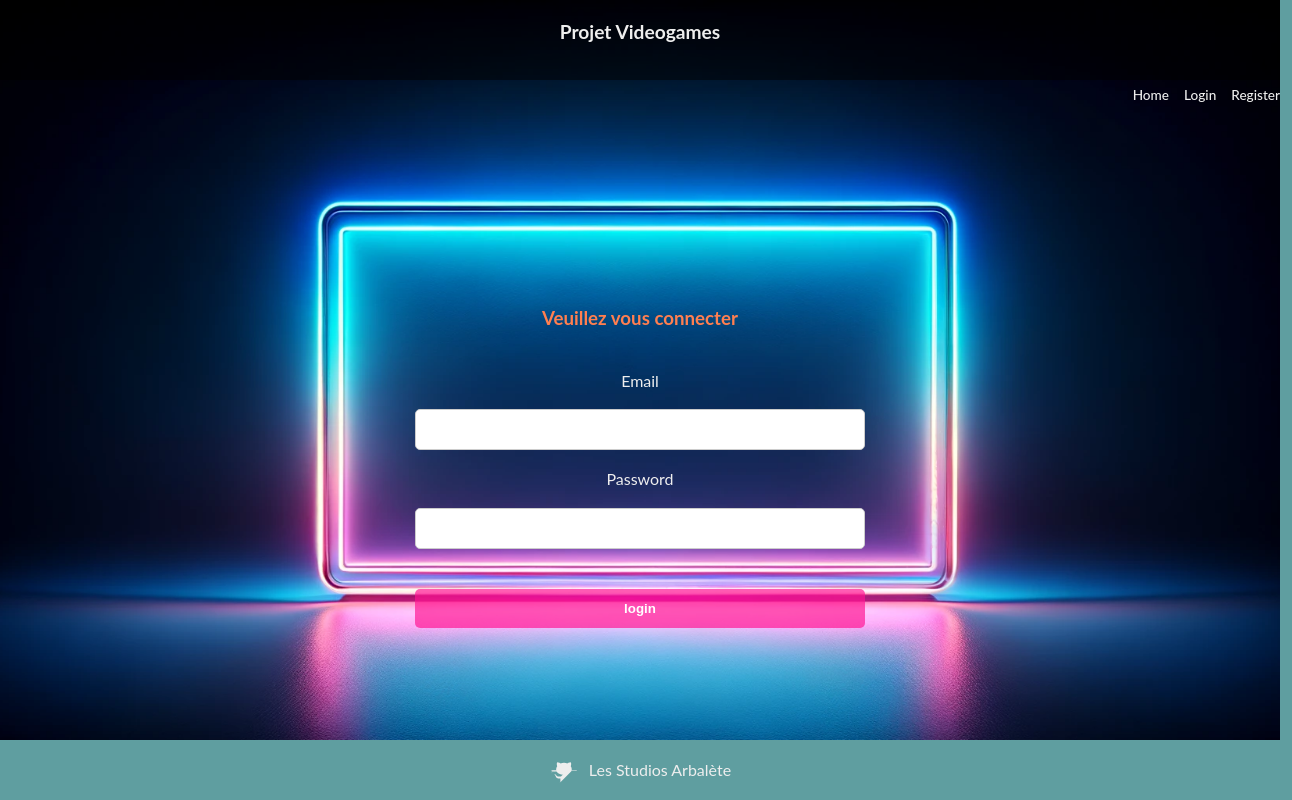
it: Page de connexion (Login) › devrait afficher un message d'erreur en cas de mauvais identifiants
Step 1. Type "wrong@test.com" into the field named "email" → (640, 430), box [415,409,865,450]
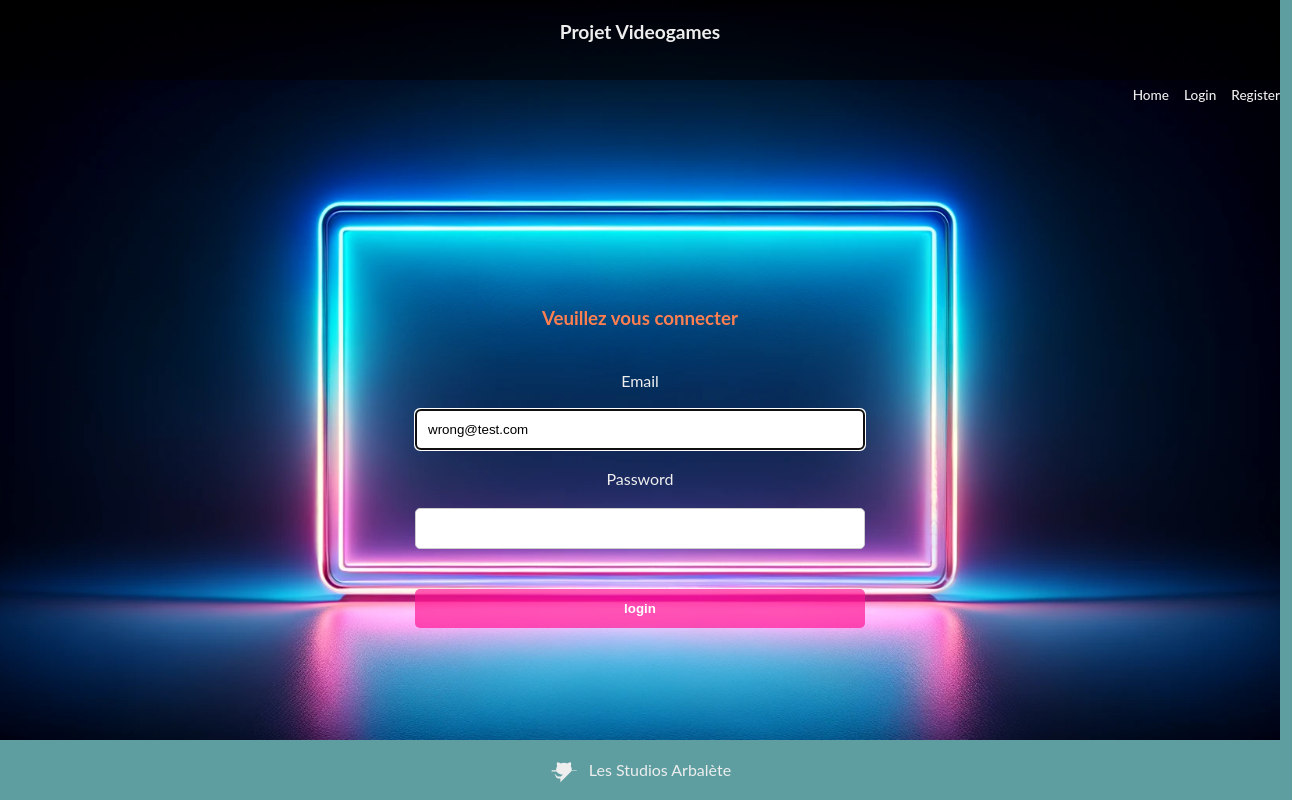
Step 2. Type "mauvaispass" into the password field named "password" → (640, 529), box [415,508,865,549]
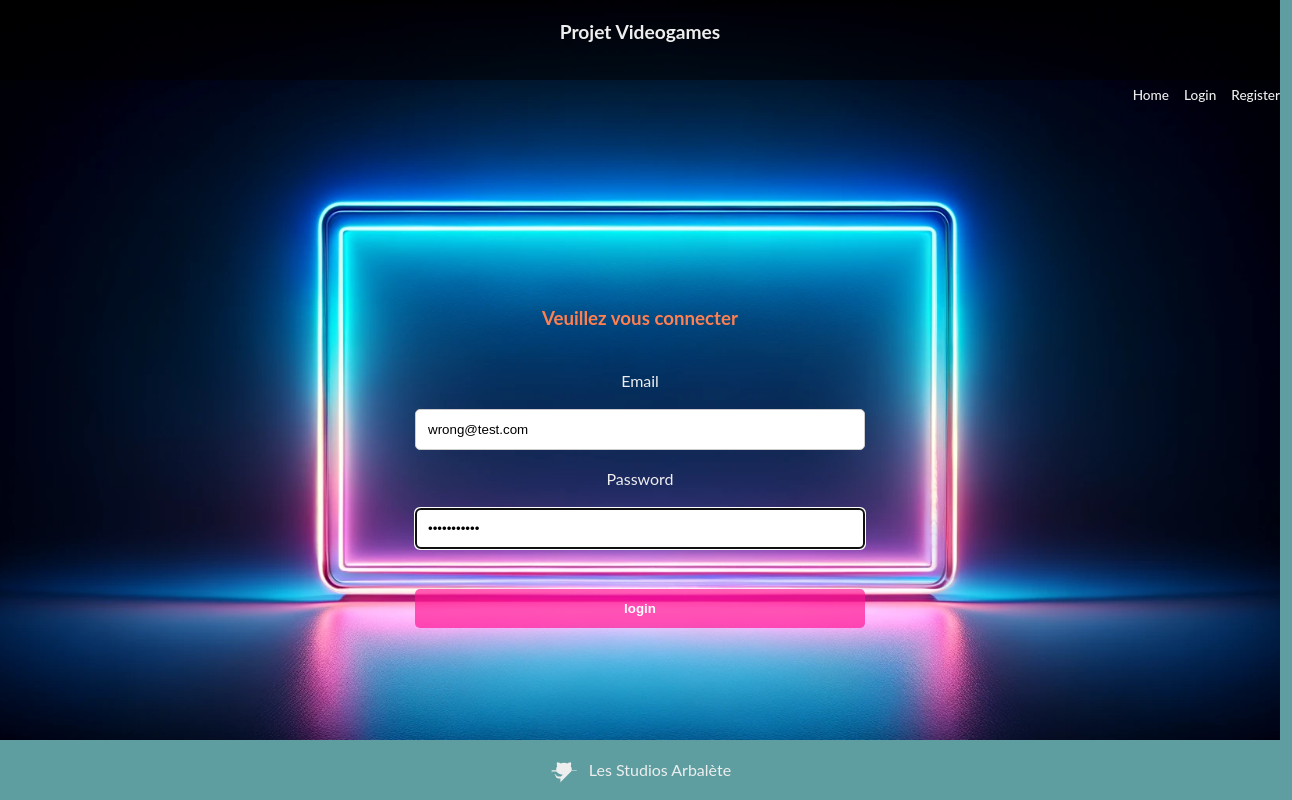
Step 3. Click the submit button → (640, 609), box [415,589,865,628]
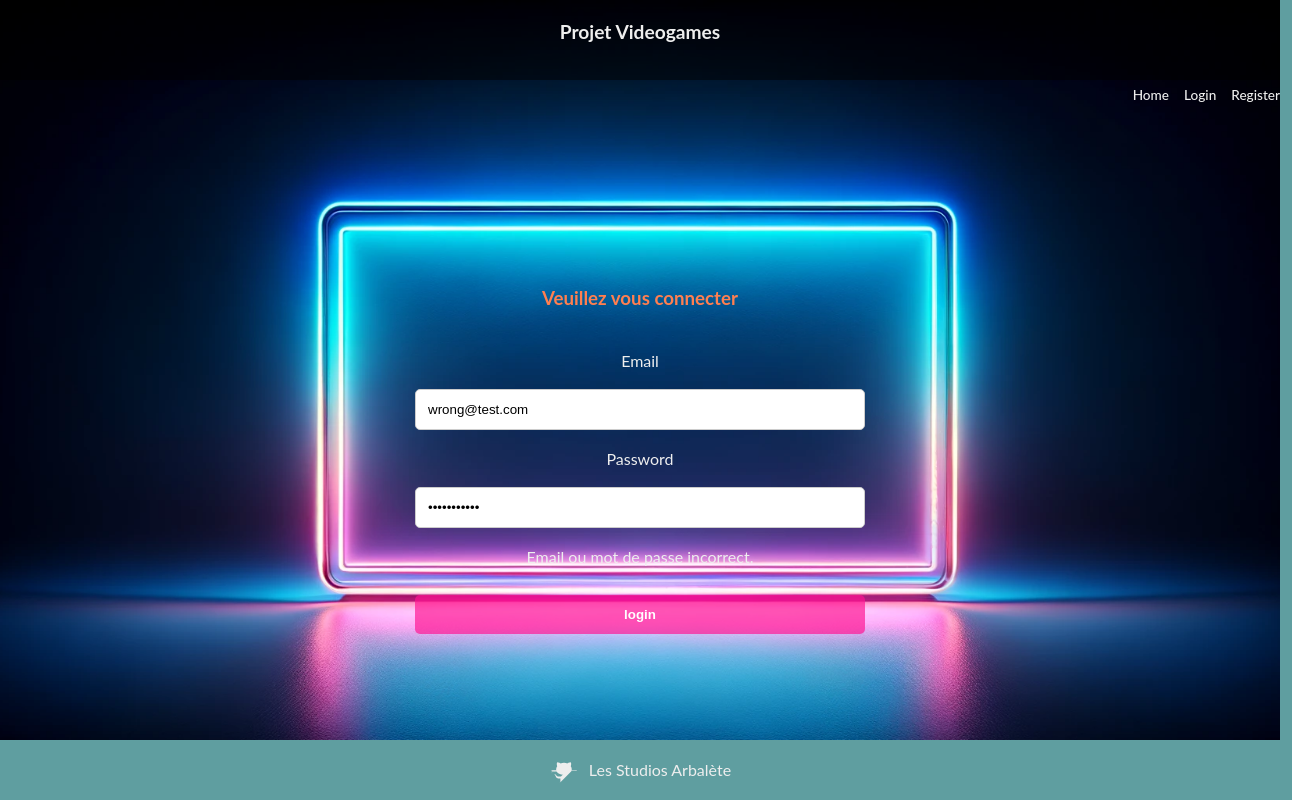
Check: the text "Email ou mot de passe incorrect." is shown, box [526,543,753,570]
